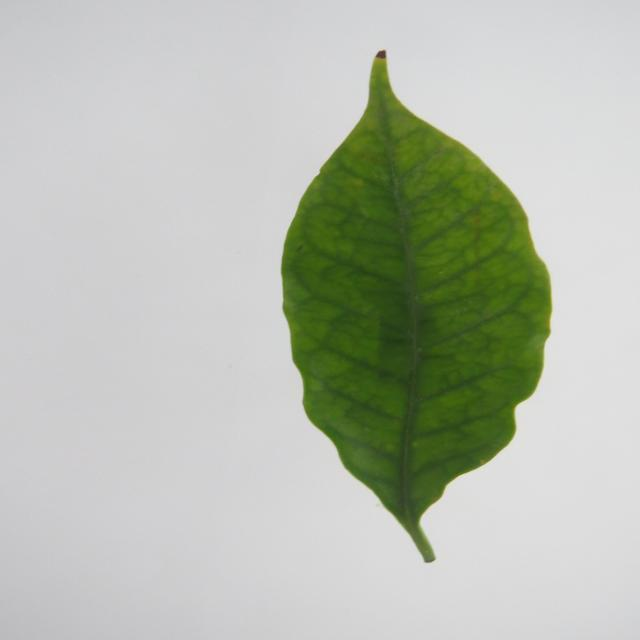DeficienciaNutricional-Manganeso: (282, 51, 552, 562)
